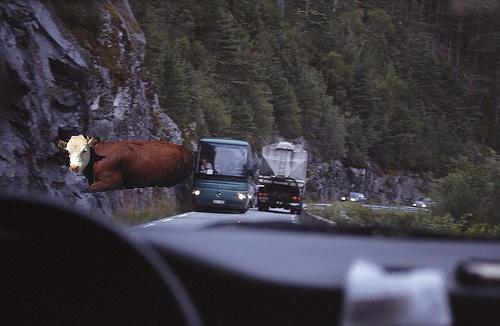tampered: (57, 136, 193, 193)
